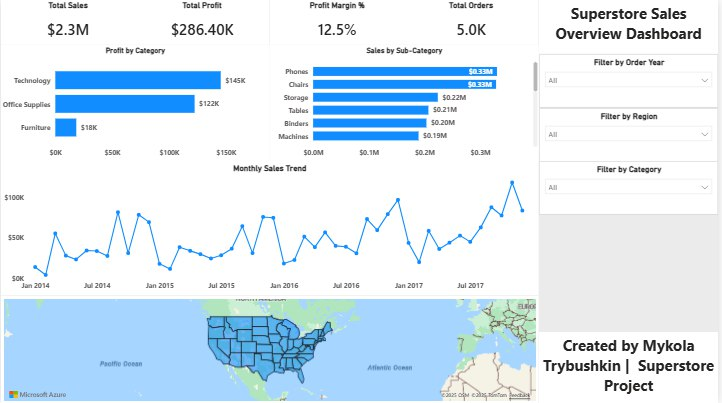

Layout of this report page (visuals, bound fields, positions):
{"tool":"powerbi","page":{"name":"Overview","canvas":[1280,720],"ordinal":0},"visuals":[{"type":"cardVisual","title":"Total Sales","fields":{"Data":["Own Measures.Total Sales"]},"box":[0,0,240,80],"z":0},{"type":"cardVisual","title":"Total Profit","fields":{"Data":["Own Measures.Total Profit"]},"box":[240,0,240,80],"z":1000},{"type":"cardVisual","title":"Profit Margin %","fields":{"Data":["Own Measures.Profit Margin %"]},"box":[480,0,240,80],"z":2000},{"type":"cardVisual","title":"Total Orders","fields":{"Data":["Own Measures.Total Orders"]},"box":[720,0,240,80],"z":3000},{"type":"clusteredBarChart","title":"Profit by Category","fields":{"Category":["Superstore Clean.Category"],"Y":["Own Measures.Total Profit"]},"box":[0,80,480,208],"z":4000},{"type":"clusteredBarChart","title":"Sales by Sub-Category","fields":{"Category":["Superstore Clean.Sub Category"],"Y":["Own Measures.Total Sales"]},"box":[480,80,480,208],"z":5000},{"type":"lineChart","title":"Monthly Sales Trend","fields":{"Y":["Own Measures.Total Sales"],"Category":["Superstore Clean.Order Month Year.Variation.Date Hierarchy.Year","Superstore Clean.Order Month Year.Variation.Date Hierarchy.Quarter","Superstore Clean.Order Month Year.Variation.Date Hierarchy.Month","Superstore Clean.Order Month Year.Variation.Date Hierarchy.Day"]},"box":[0,288,960,240],"z":6000},{"type":"azureMap","fields":{"Category":["Superstore Clean.State"]},"box":[0,528,960,192],"z":7000},{"type":"slicer","title":"Filter by Order Year","fields":{"Values":["Superstore Clean.Order Year"]},"box":[960,96,320,96],"z":8000},{"type":"slicer","title":"Filter by Region","fields":{"Values":["Superstore Clean.Region"]},"box":[960,192,320,96],"z":9000},{"type":"slicer","title":"Filter by Category","fields":{"Values":["Superstore Clean.Category"]},"box":[960,288,320,96],"z":10000},{"type":"textbox","title":"Superstore Sales Overview Dashboard","box":[960,0,320,96],"z":11000},{"type":"textbox","box":[960,592,320,128],"z":11001}]}

Visuals, with their boxes in screenshot pixels (x1, y1, x2, y2), scaled from the page's 1280x720 canvas onto the 722x403 screenshot:
"Total Sales" cardVisual: left=0, top=0, right=135, bottom=45
"Total Profit" cardVisual: left=135, top=0, right=271, bottom=45
"Profit Margin %" cardVisual: left=271, top=0, right=406, bottom=45
"Total Orders" cardVisual: left=406, top=0, right=542, bottom=45
"Profit by Category" clusteredBarChart: left=0, top=45, right=271, bottom=161
"Sales by Sub-Category" clusteredBarChart: left=271, top=45, right=542, bottom=161
"Monthly Sales Trend" lineChart: left=0, top=161, right=542, bottom=296
azureMap - Superstore Clean.State: left=0, top=296, right=542, bottom=402
"Filter by Order Year" slicer: left=542, top=54, right=721, bottom=107
"Filter by Region" slicer: left=542, top=107, right=721, bottom=161
"Filter by Category" slicer: left=542, top=161, right=721, bottom=215
"Superstore Sales Overview Dashboard" textbox: left=542, top=0, right=721, bottom=54
textbox: left=542, top=331, right=721, bottom=402
